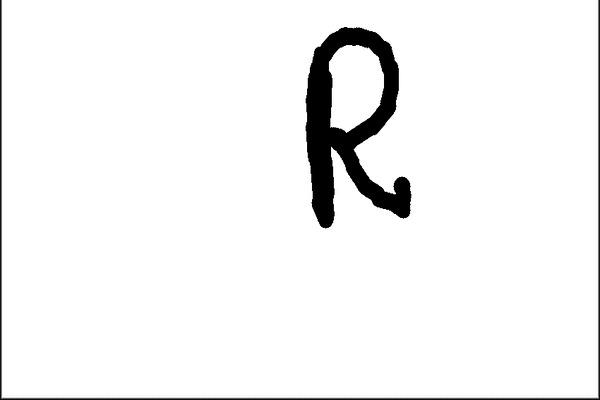R: (291, 20, 421, 229)
